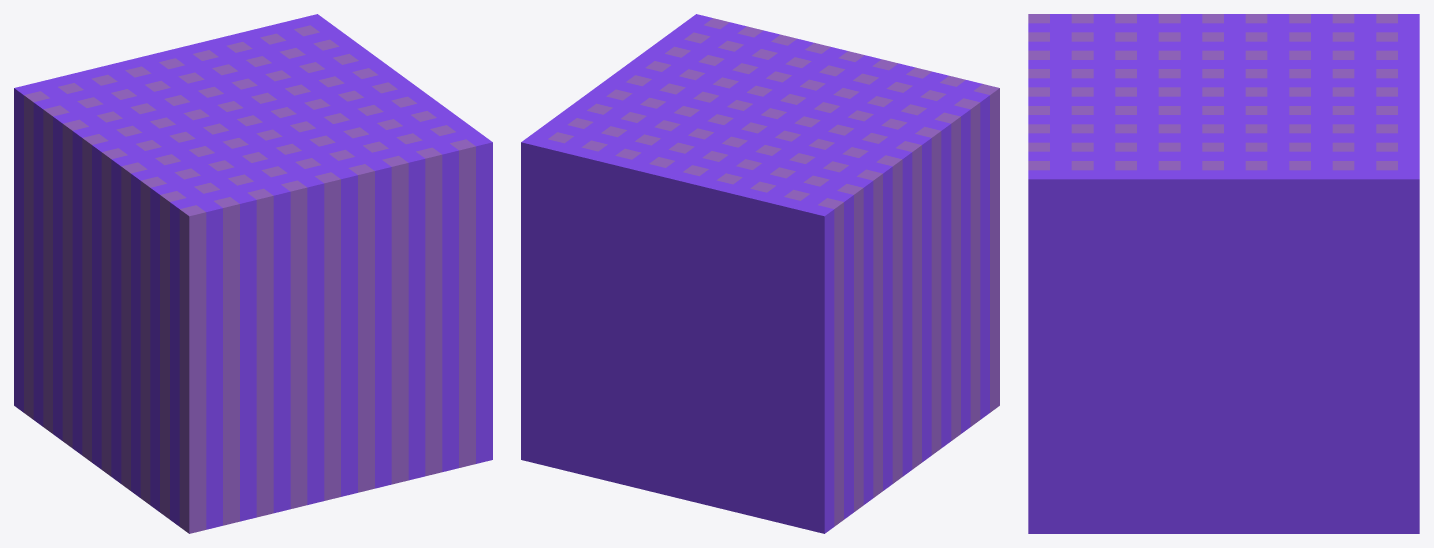
File: floor_1.obj
3 views of the same model, side by side, from view 1: azimuth 30°, elevation 25°; view 2: azimuth 150°, elevation 25°; view 3: azimuth 270°, elevation 25° (orthographic). The views are drawn at different scales.
Bounding box in the file's own units: 1.8 × 1.8 × 1.8.
Materials: 1 (1 with a texture image).
